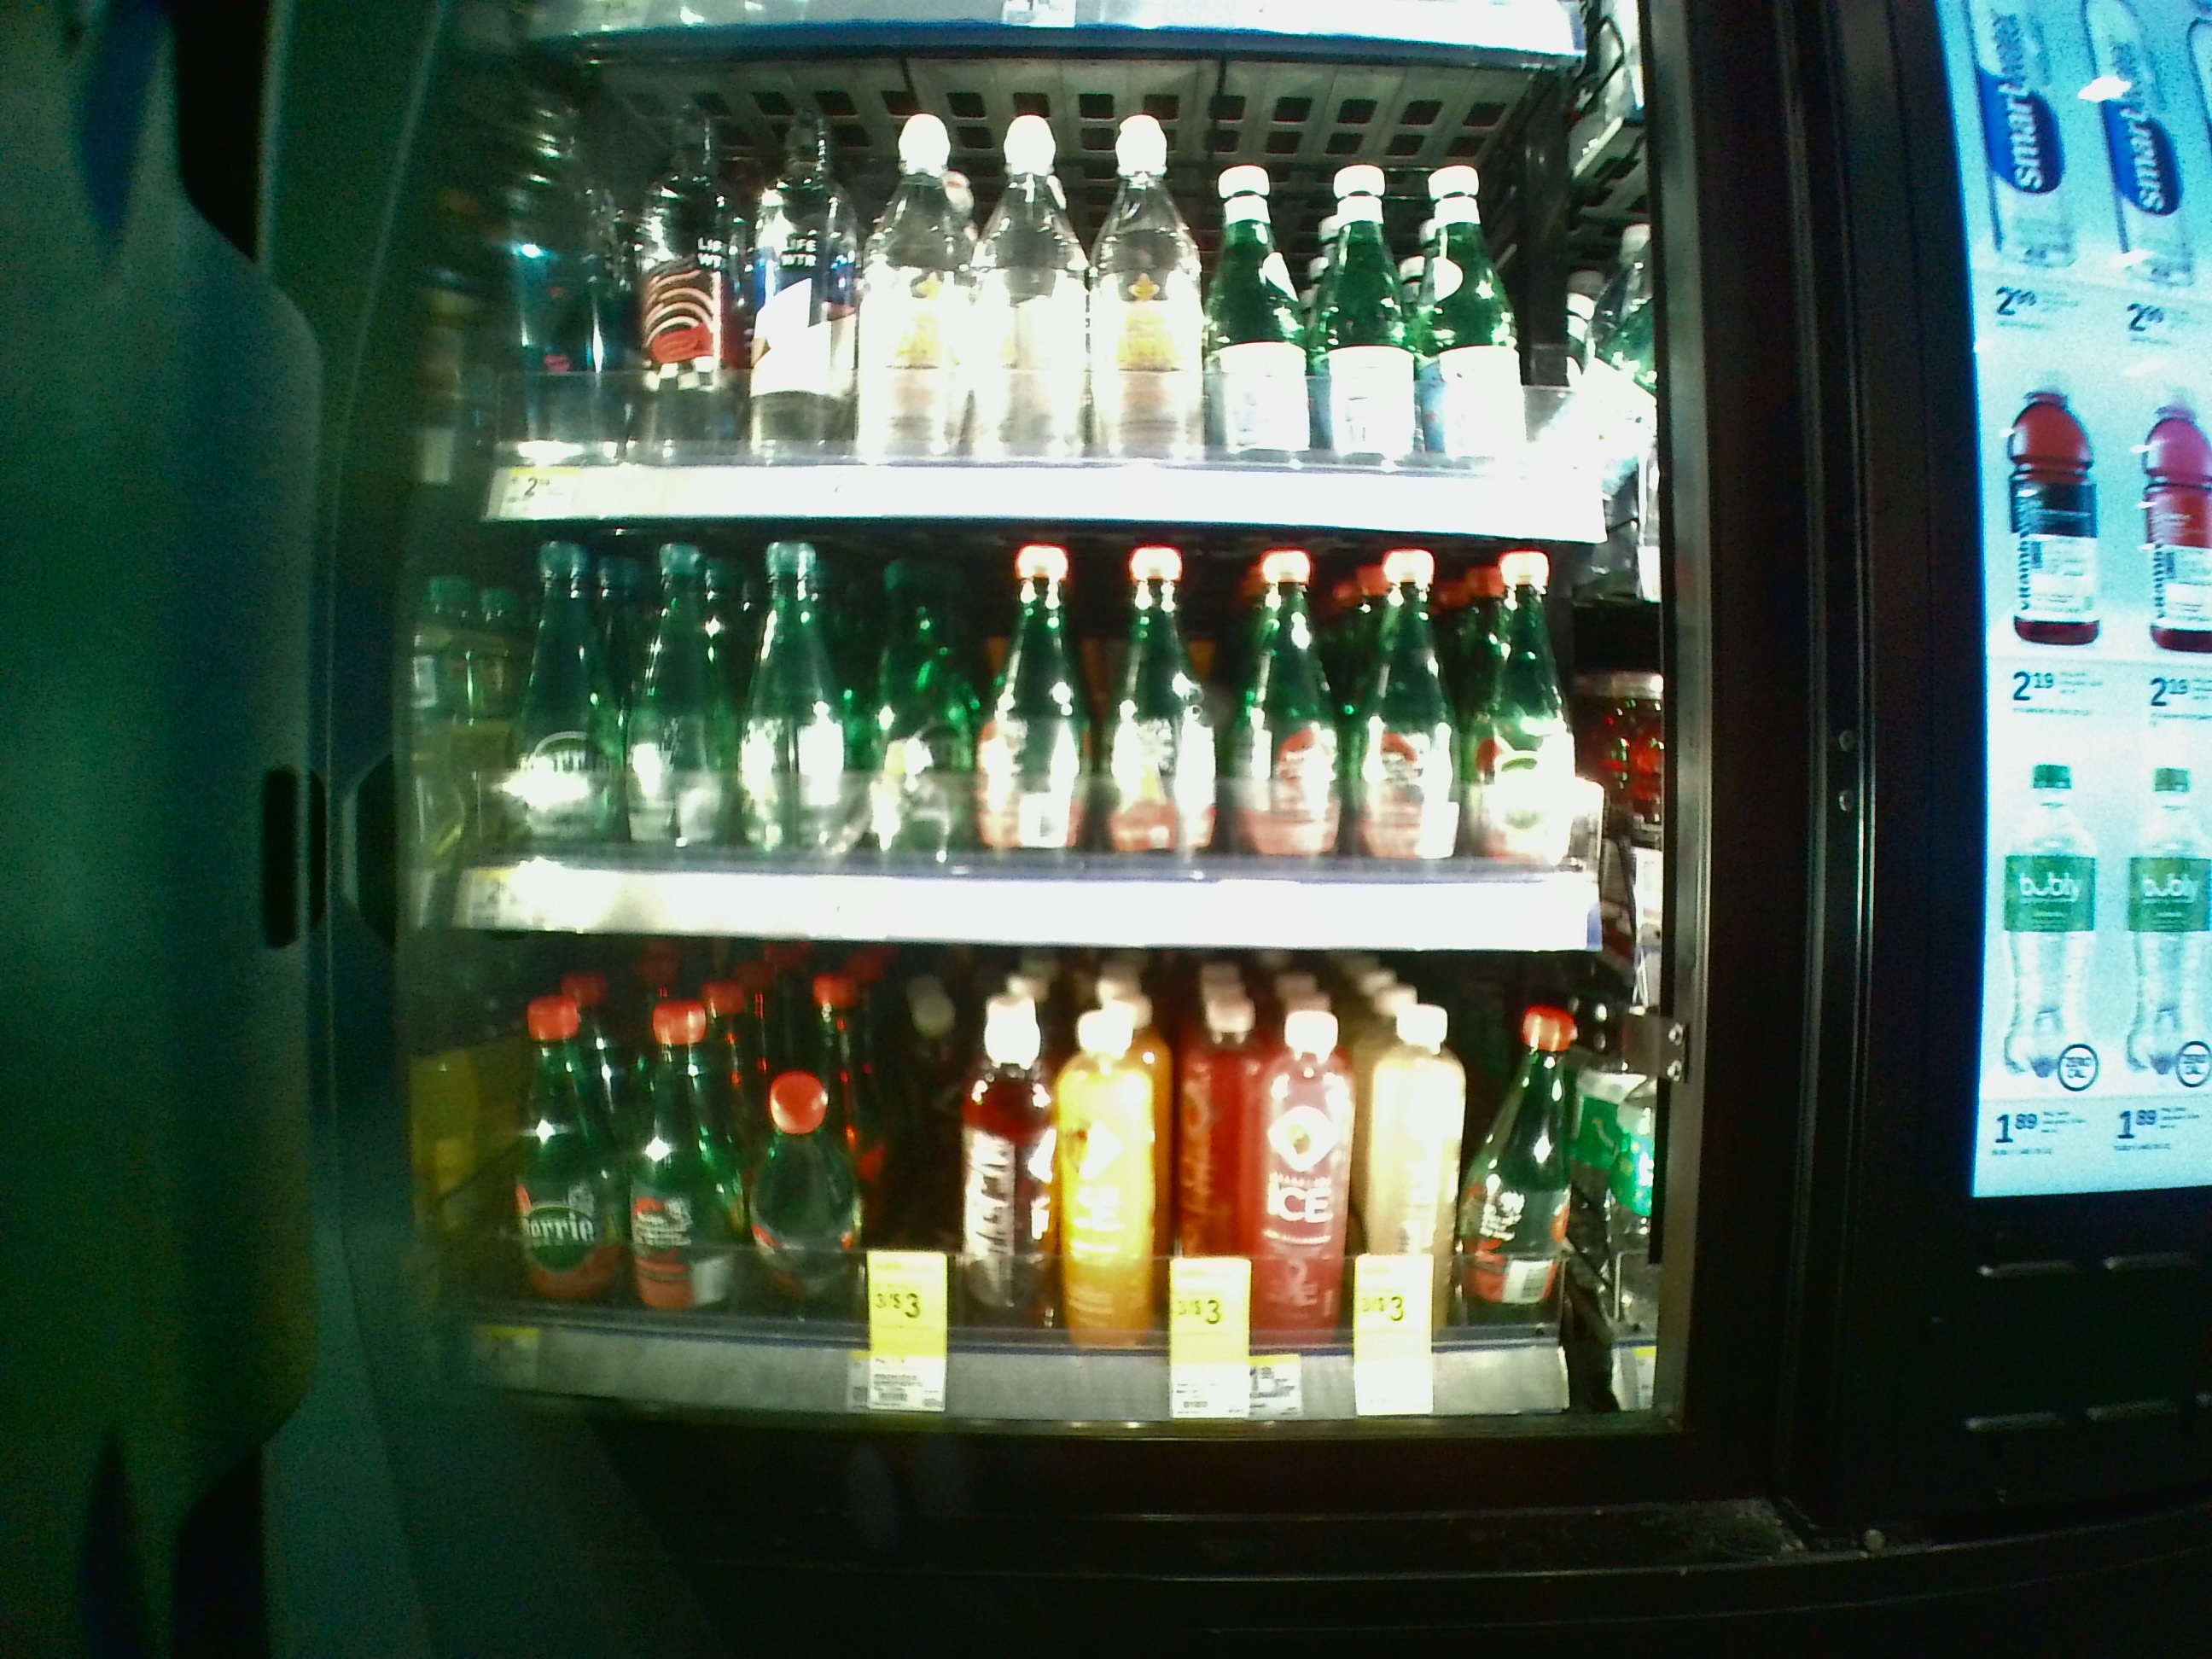shelf: (449, 955, 1695, 1436), (455, 518, 1691, 950)
